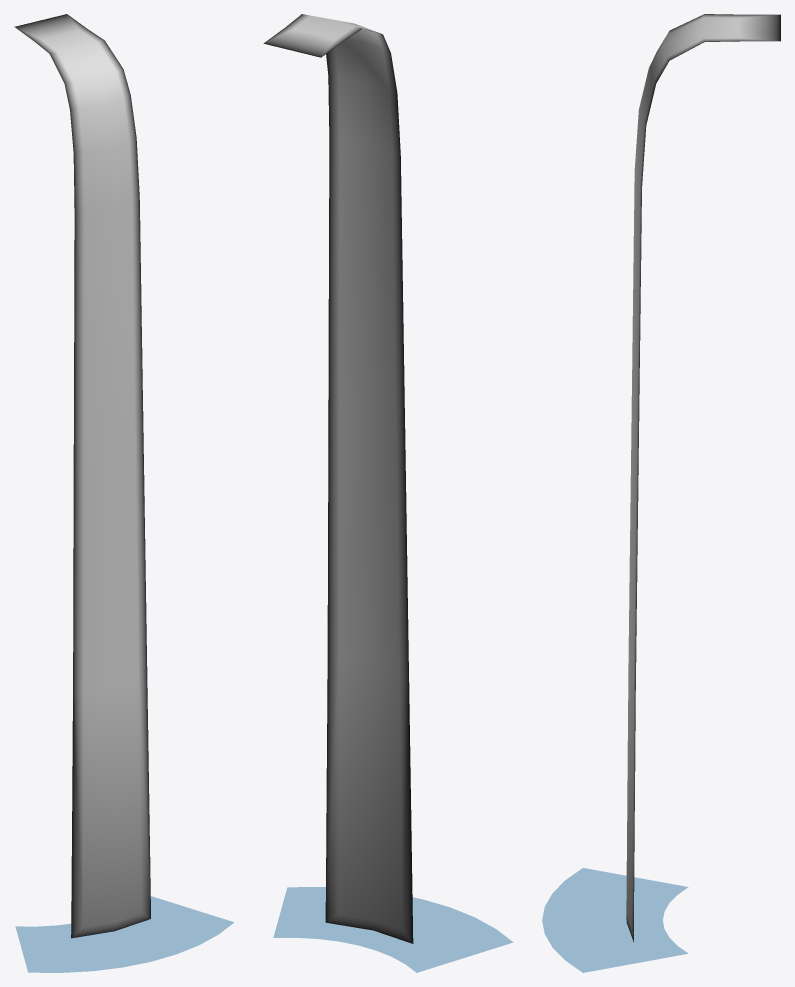
Rendered from SM_Waterfall8.fbx.
3 views of the same model, side by side, from view 1: azimuth 30°, elevation 25°; view 2: azimuth 150°, elevation 25°; view 3: azimuth 270°, elevation 25° (orthographic). The views are drawn at different scales.
Parts seen in each view (by area): view 1: SM_Waterfall8; view 2: SM_Waterfall8; view 3: SM_Waterfall8.
Boxes of the visible parts, x1,y1,x2,y2 form: SM_Waterfall8: [14, 14, 233, 972]; SM_Waterfall8: [263, 14, 513, 972]; SM_Waterfall8: [542, 14, 780, 972].
Size of the model in its own units: 1090 by 4324 by 1046.
